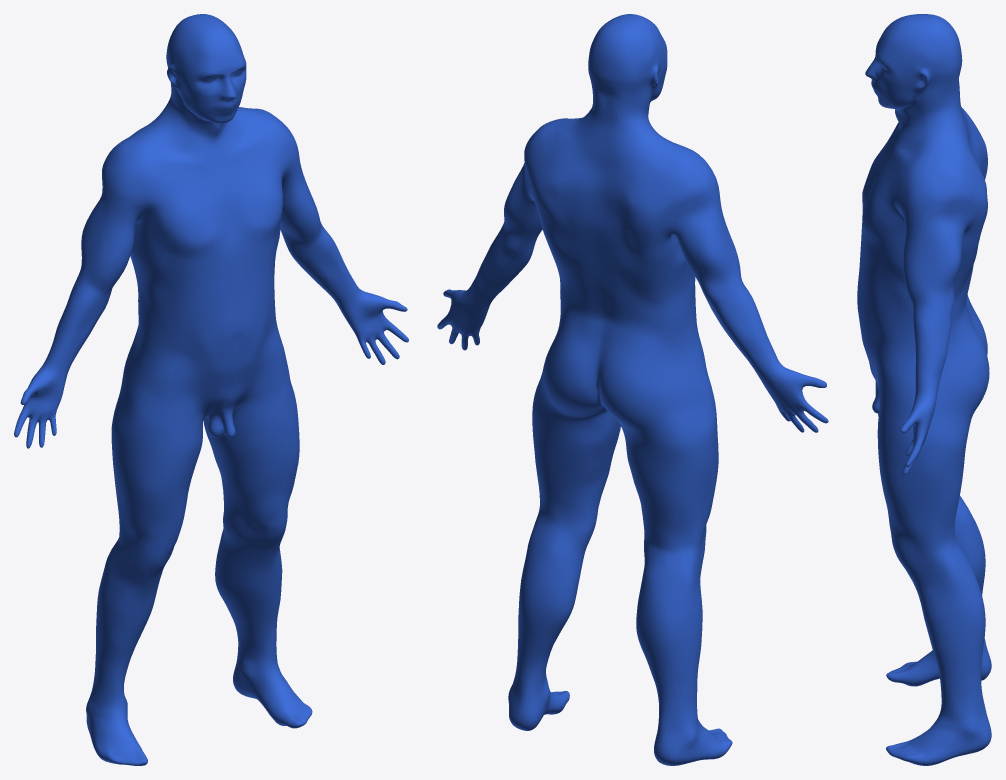
Rendered from 3d-vh-m-skin_lod_20.glb.
The picture shows the model from 3 angles, left to right: view 1: azimuth 30°, elevation 25°; view 2: azimuth 150°, elevation 25°; view 3: azimuth 270°, elevation 25°; orthographic projection. The views are drawn at different scales.
Visible parts, largest first — view 1: VH_M_skin; view 2: VH_M_skin; view 3: VH_M_skin.
Part boxes in pixels (x1=…): VH_M_skin: x1=14, y1=14, x2=408, y2=765; VH_M_skin: x1=437, y1=14, x2=828, y2=765; VH_M_skin: x1=857, y1=14, x2=991, y2=765.
Size of the model in its own units: 1.05 by 1.83 by 0.3163.
